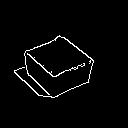cube: (10, 24, 102, 101)
